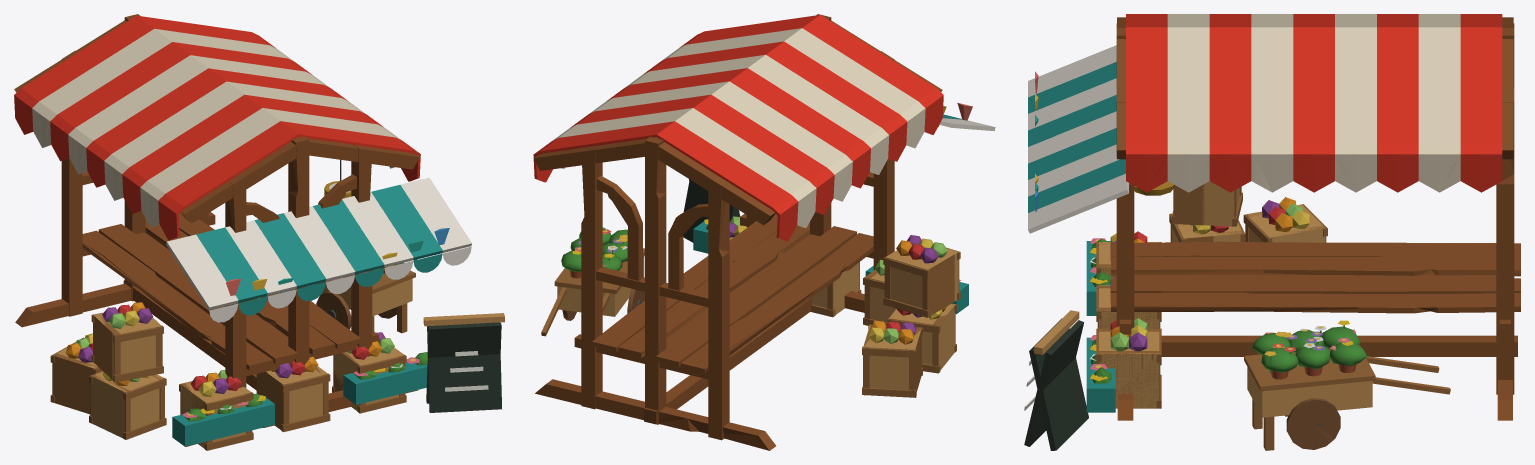
File: market_stand-3.glb
3 renders of one model, left to right at view 1: azimuth 30°, elevation 25°; view 2: azimuth 150°, elevation 25°; view 3: azimuth 270°, elevation 25°, orthographic. The views are drawn at different scales.
Visible parts, largest first — view 1: building-market_stand-3, building-market_stand-3-far; view 2: building-market_stand-3, building-market_stand-3-far; view 3: building-market_stand-3, building-market_stand-3-far.
Part boxes in pixels (x1,y1,x2,y2): building-market_stand-3: (14, 14, 504, 450); building-market_stand-3-far: (14, 20, 471, 448); building-market_stand-3: (533, 14, 995, 449); building-market_stand-3-far: (534, 20, 968, 450); building-market_stand-3: (1024, 14, 1520, 450); building-market_stand-3-far: (1028, 17, 1520, 449).
Size of the model in its own units: 3.85 by 3 by 4.12.
